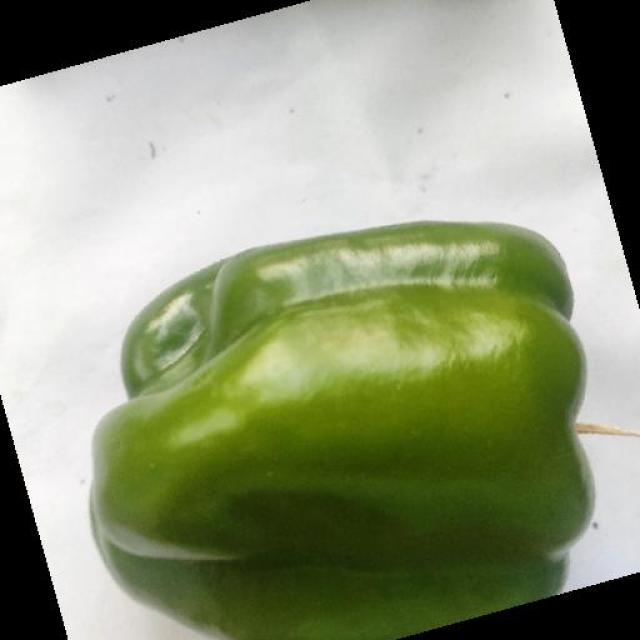Stale_Capsicum: (106, 306, 524, 640)
